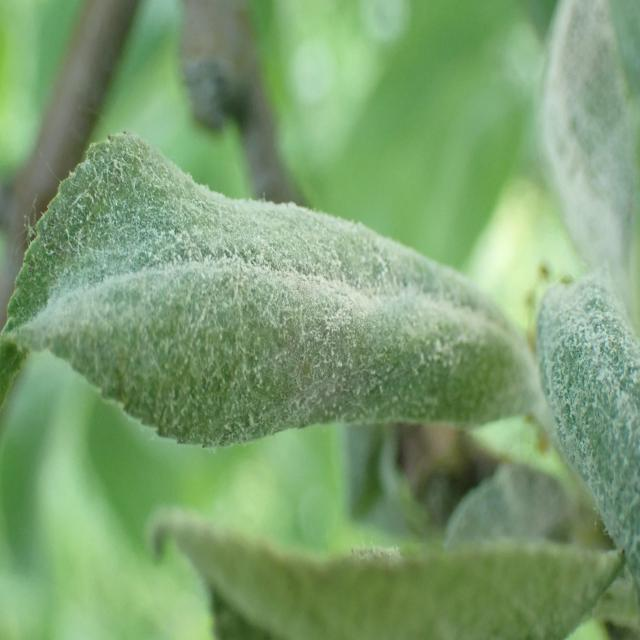Powdery_mildew: (0, 132, 541, 484), (129, 511, 640, 640), (527, 0, 640, 327), (530, 271, 634, 588)
